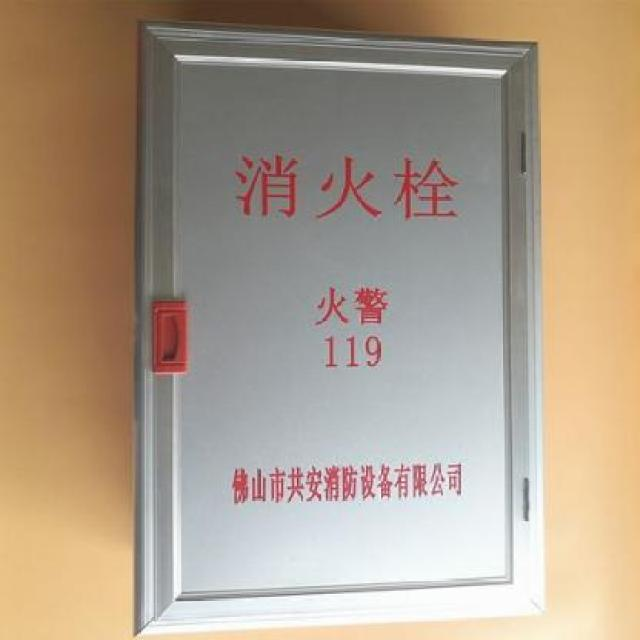firehydrant: (132, 12, 550, 640)
